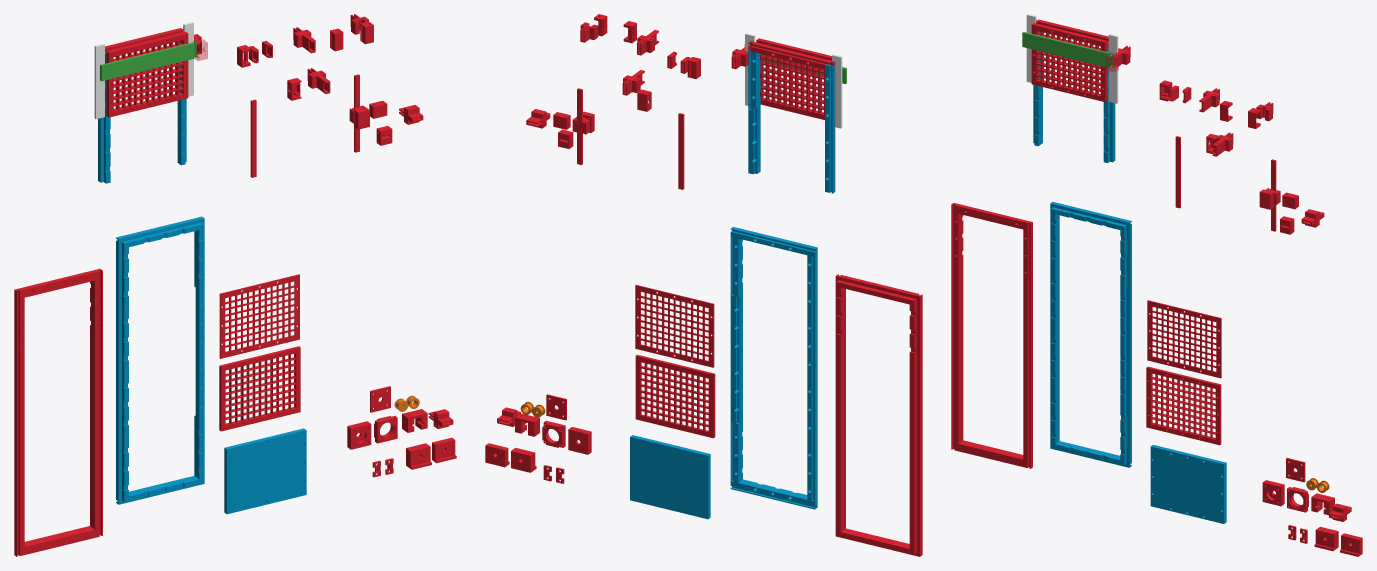
The model's file is tinker.obj.
3 views of the same model, side by side, from view 1: azimuth 30°, elevation 25°; view 2: azimuth 150°, elevation 25°; view 3: azimuth 330°, elevation 25° (orthographic). The views are drawn at different scales.
Visible parts, largest first — view 1: group_0_15277357, group_0_40919, group_0_4634441, group_0_16448250; view 2: group_0_15277357, group_0_40919, group_0_16448250; view 3: group_0_15277357, group_0_40919, group_0_4634441, group_0_16448250.
Boxes of the visible parts, x1,y1,x2,y2 form: group_0_15277357: [14, 14, 456, 556]; group_0_40919: [98, 41, 306, 514]; group_0_4634441: [100, 41, 197, 81]; group_0_16448250: [94, 22, 193, 119]; group_0_15277357: [485, 14, 922, 556]; group_0_40919: [630, 50, 835, 519]; group_0_16448250: [745, 33, 842, 128]; group_0_15277357: [951, 19, 1362, 556]; group_0_40919: [1033, 31, 1226, 523]; group_0_4634441: [1022, 32, 1113, 67]; group_0_16448250: [1026, 14, 1118, 103].
Size of the model in its own units: 613 by 668 by 61.09.
